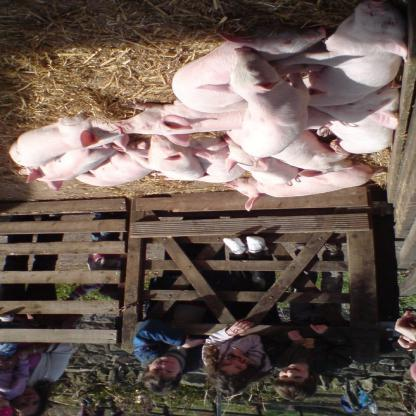boar: (8, 1, 408, 213)
